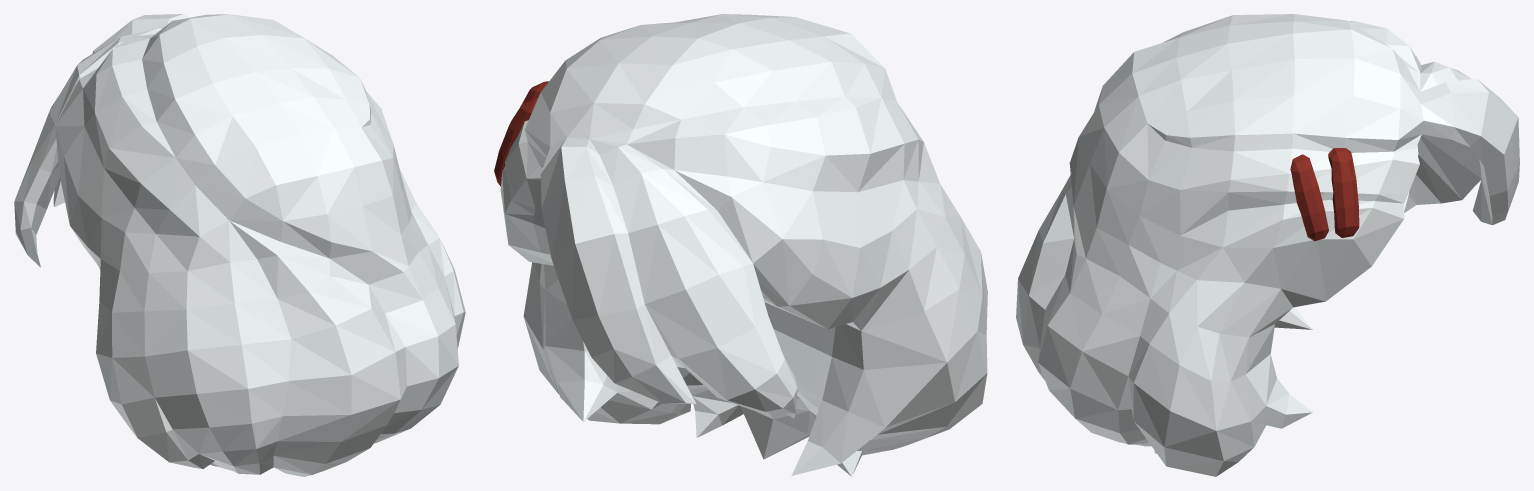
The model's file is CharSkyKid_Hair_AP04WavyBob_01.glb.
3 renders of one model, left to right at view 1: azimuth 30°, elevation 25°; view 2: azimuth 150°, elevation 25°; view 3: azimuth 270°, elevation 25°, orthographic. The views are drawn at different scales.
Visible parts, largest first — view 1: CharSkyKid_Hair_AP04WavyBob_01; view 2: CharSkyKid_Hair_AP04WavyBob_01; view 3: CharSkyKid_Hair_AP04WavyBob_01.
Boxes of the visible parts, x1,y1,x2,y2 form: CharSkyKid_Hair_AP04WavyBob_01: (14, 14, 465, 476); CharSkyKid_Hair_AP04WavyBob_01: (494, 14, 987, 476); CharSkyKid_Hair_AP04WavyBob_01: (1016, 14, 1519, 476).
Size of the model in its own units: 2.99 by 3.16 by 3.58.
1 material, 1 textured.
